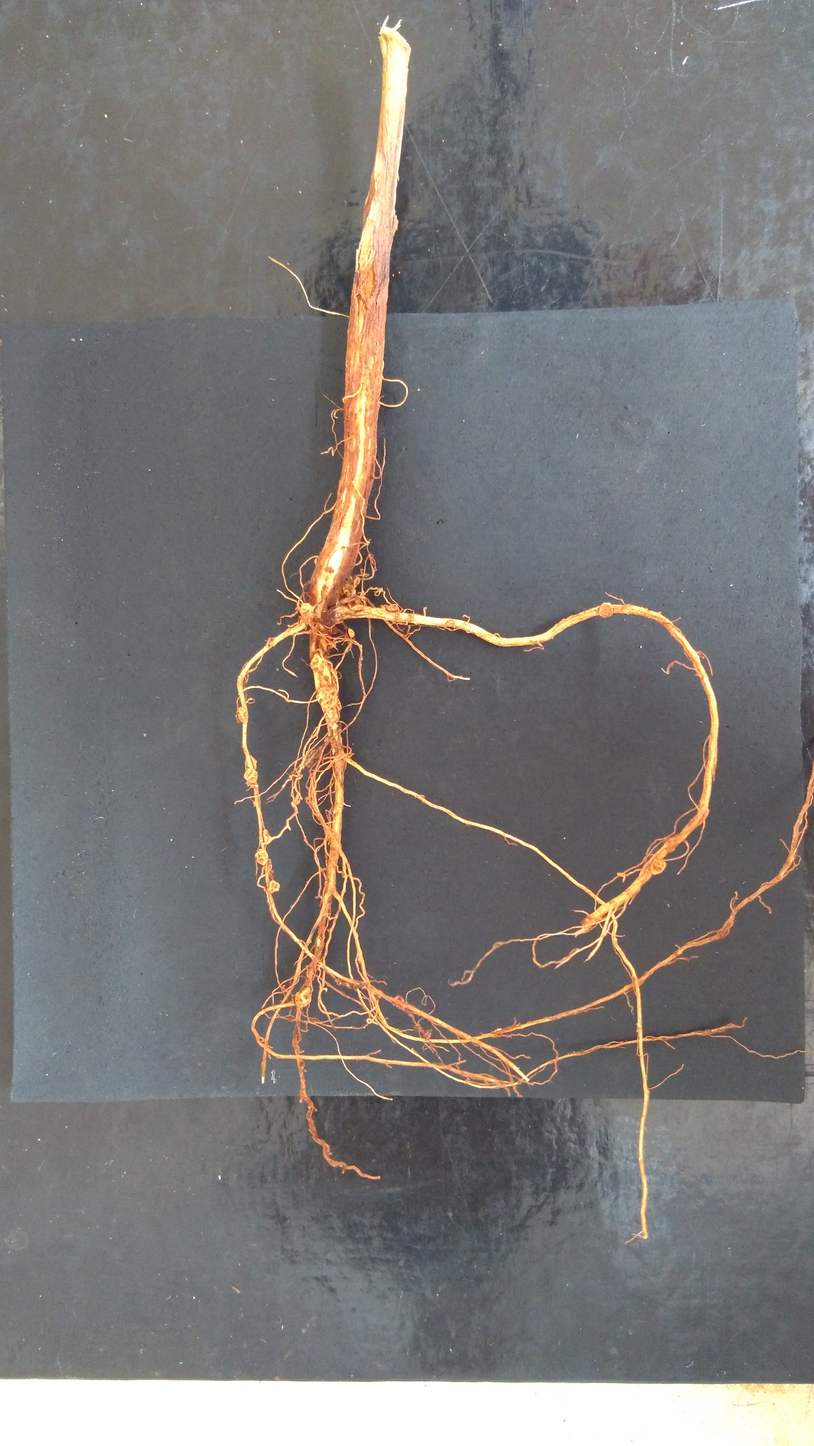nodule: (316, 684, 342, 729), (331, 604, 355, 622), (342, 575, 360, 597), (334, 977, 367, 989), (295, 987, 311, 1007), (306, 748, 322, 767), (310, 652, 325, 672), (347, 598, 367, 611), (301, 603, 314, 623), (599, 602, 613, 618), (650, 860, 666, 874), (255, 848, 268, 865), (244, 769, 258, 784), (332, 722, 342, 743), (664, 837, 677, 853), (236, 707, 248, 723), (245, 755, 257, 770), (380, 604, 400, 612), (334, 759, 344, 775), (269, 880, 280, 893), (259, 829, 269, 843), (318, 638, 327, 651), (264, 858, 272, 872), (391, 620, 408, 625), (348, 628, 355, 638), (267, 637, 274, 647), (328, 640, 336, 648), (315, 937, 321, 946), (331, 626, 337, 634), (324, 881, 328, 891), (366, 1018, 372, 1023), (324, 737, 330, 742), (314, 558, 317, 565)
